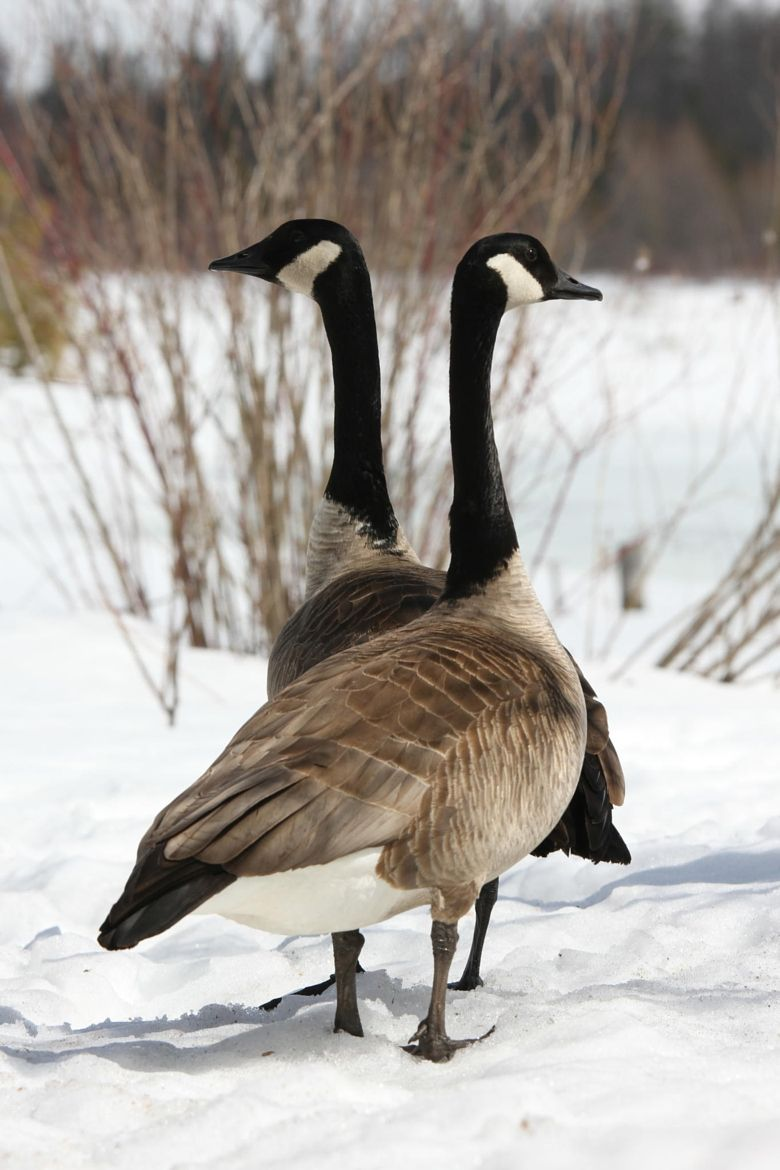goose: (90, 229, 605, 1081), (202, 215, 434, 676)
